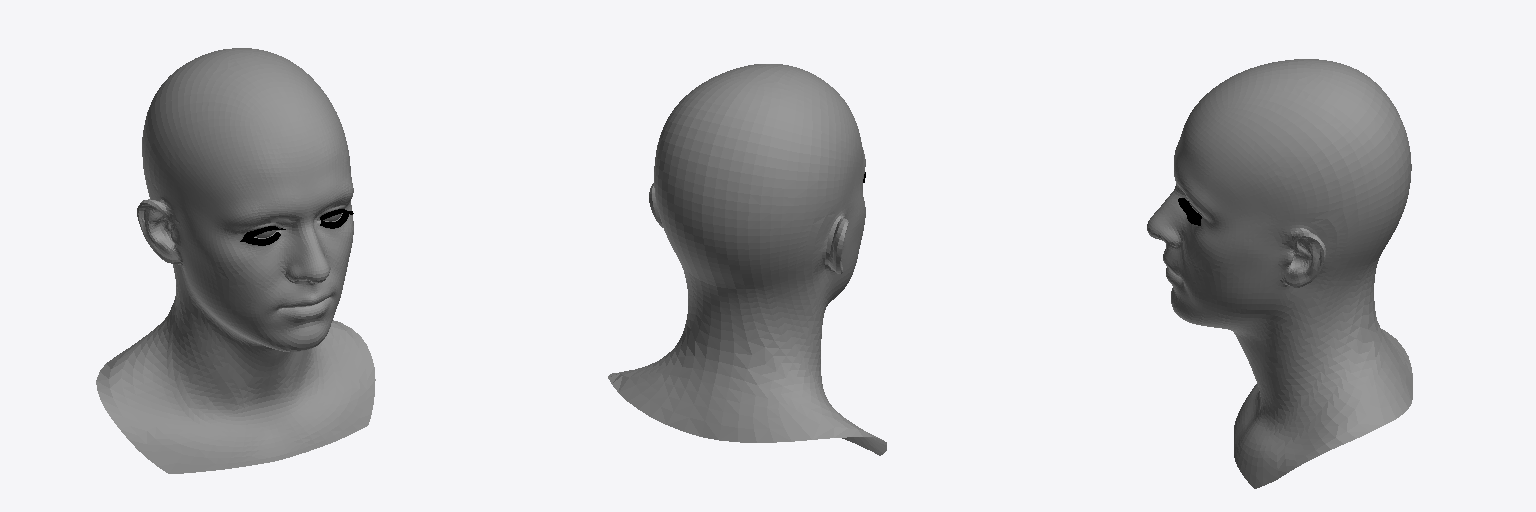
The model's file is identity004.obj.
The picture shows the model from 3 angles: view 1: azimuth 30°, elevation 25°; view 2: azimuth 150°, elevation 25°; view 3: azimuth 270°, elevation 25°; orthographic projection.
Bounding box in the file's own units: 25.06 × 34.32 × 22.08.